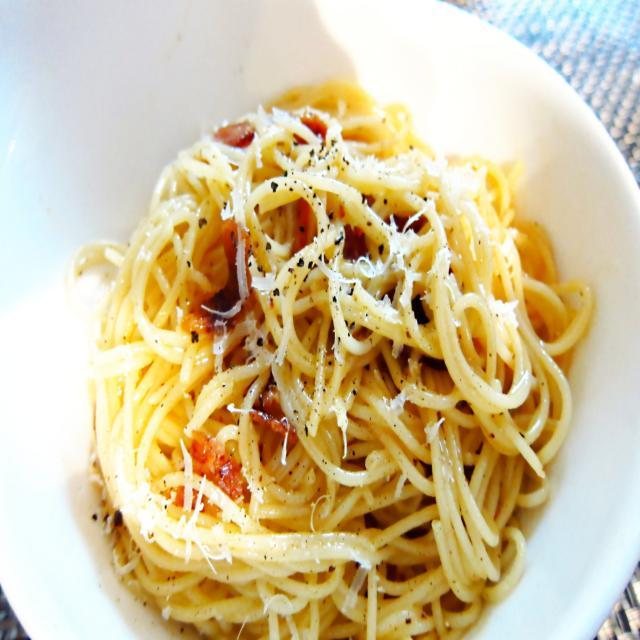Pasta with carbonara sauce: (47, 63, 639, 635)
